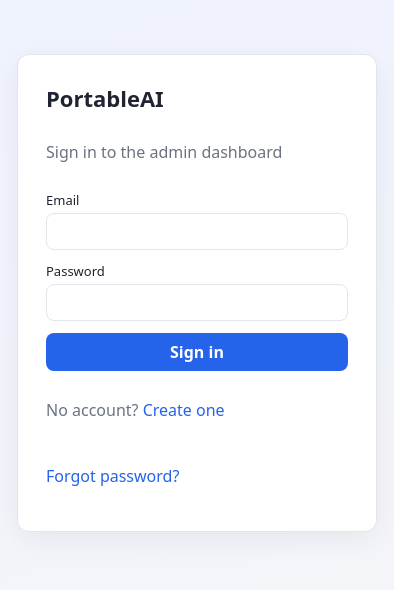
Test case: LoginPage › shows an error and stays on the page when login fails
Step 1. Type "user@example.com" into the field labelled "Email" → (197, 232), box x1=46 y1=213 x2=348 y2=250
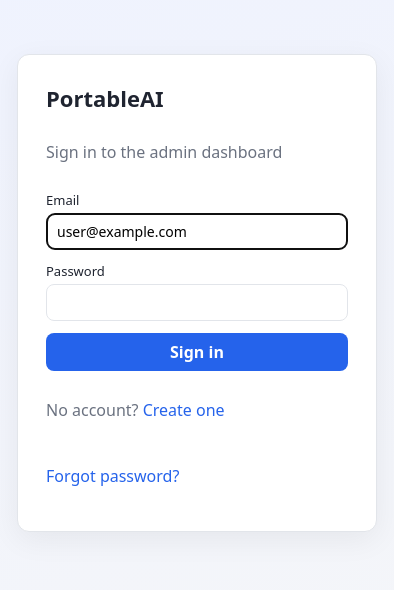
Step 2. Type "password123" into the password field labelled "Password" → (197, 302), box x1=46 y1=284 x2=348 y2=321
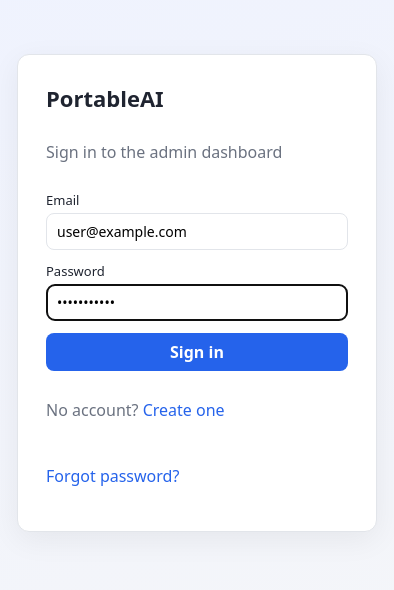
Step 3. Click the button "Sign in" → (197, 352), box x1=46 y1=333 x2=348 y2=371
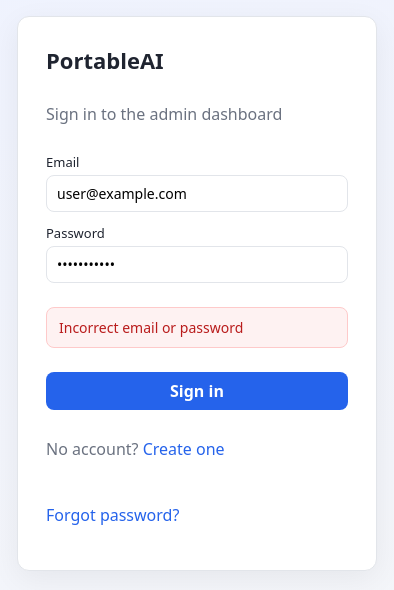
Result: the text "Incorrect email or password" is shown at x1=46 y1=306 x2=348 y2=348
